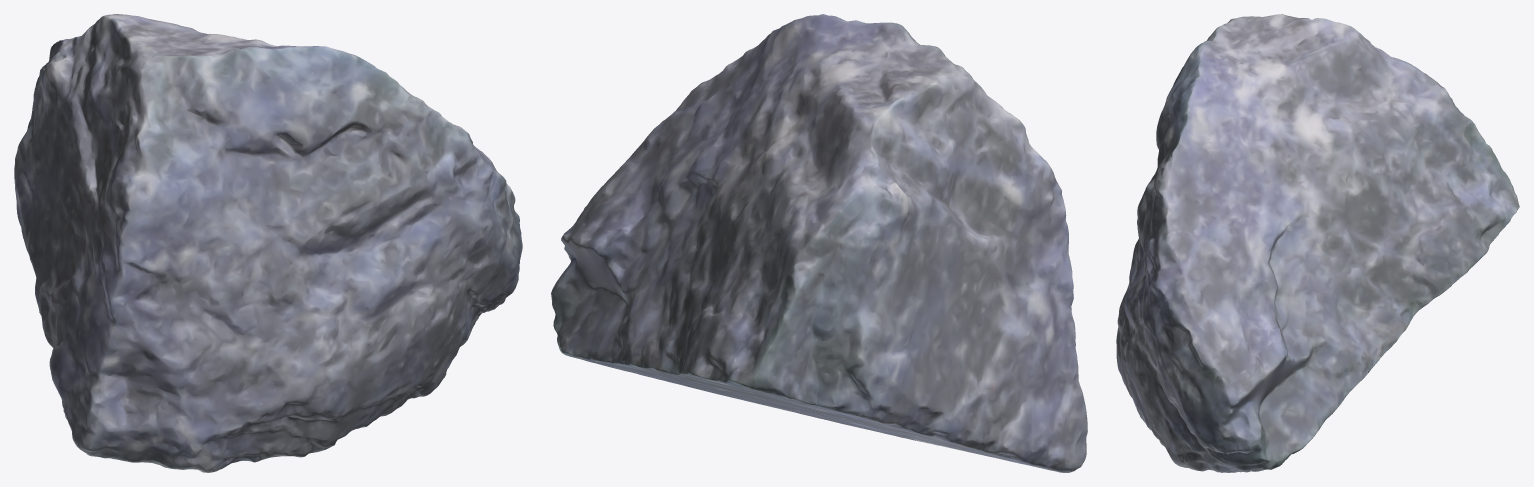
File: Lapis1.glb
3 views of the same model, side by side, from view 1: azimuth 30°, elevation 25°; view 2: azimuth 150°, elevation 25°; view 3: azimuth 270°, elevation 25° (orthographic). The views are drawn at different scales.
Parts seen in each view (by area): view 1: Object_2; view 2: Object_2; view 3: Object_2.
Part boxes in pixels (box(x1,y1,x2,y2)): Object_2: box(14, 14, 522, 472); Object_2: box(551, 14, 1087, 472); Object_2: box(1116, 14, 1519, 472).
Size of the model in its own units: 10.85 by 9.02 by 9.06.
